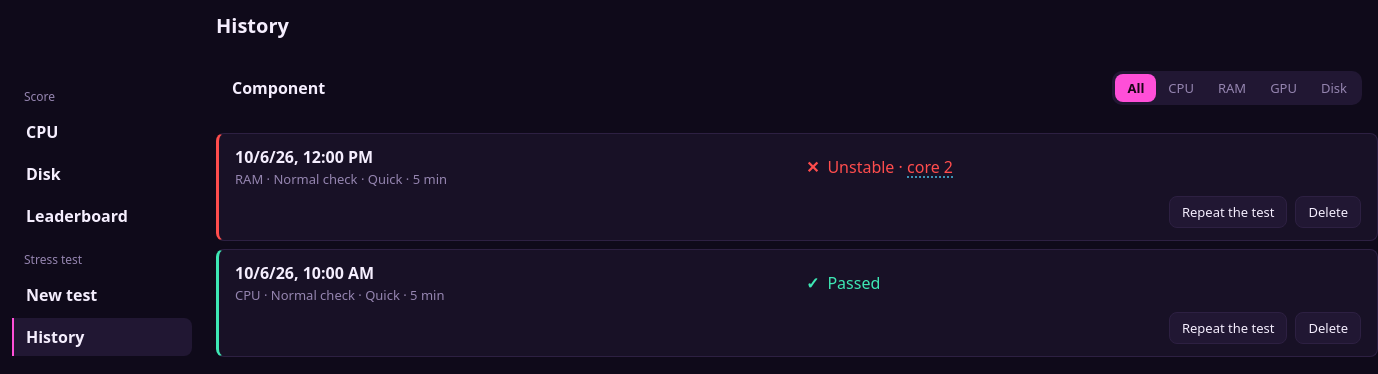
Test: a filter without matches says so, not that nothing is saved
Expected: the number of list items is 2, [216,133,1377,241]; [216,249,1377,357]
Click the radio button labelled "RAM" at (1232, 88), box [1218,79,1246,97]
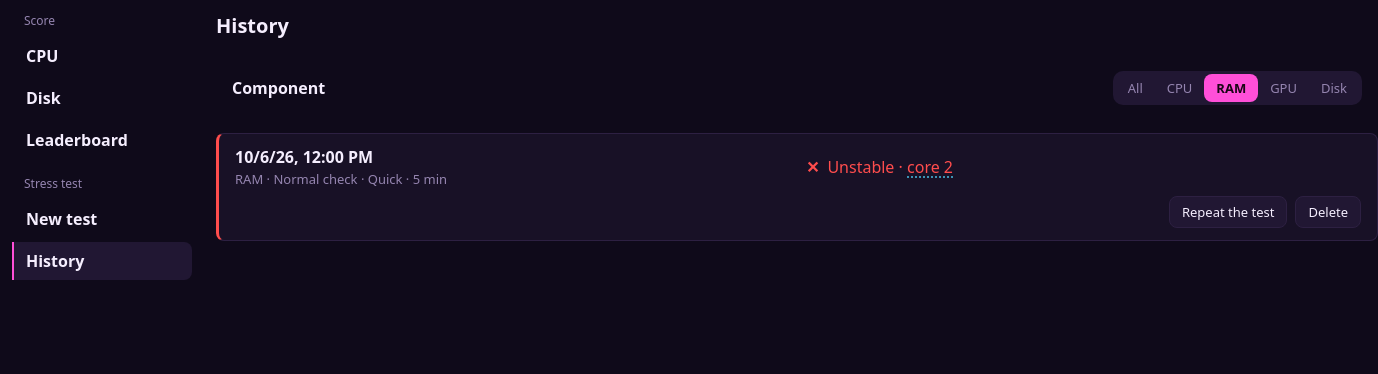
Click the button "Delete" at (1328, 212), box [1296,196,1361,228]
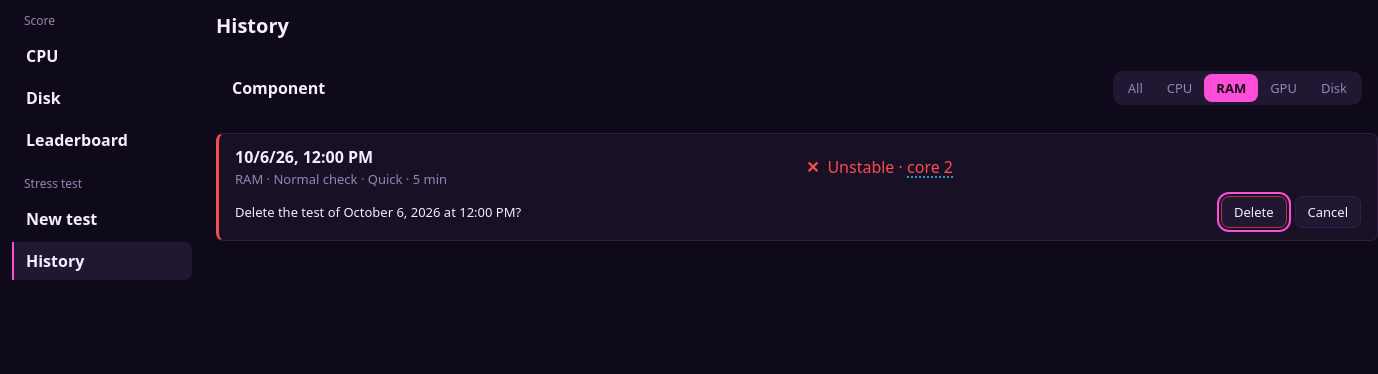
Click the button "Delete" at (1254, 212), box [1221,196,1286,228]
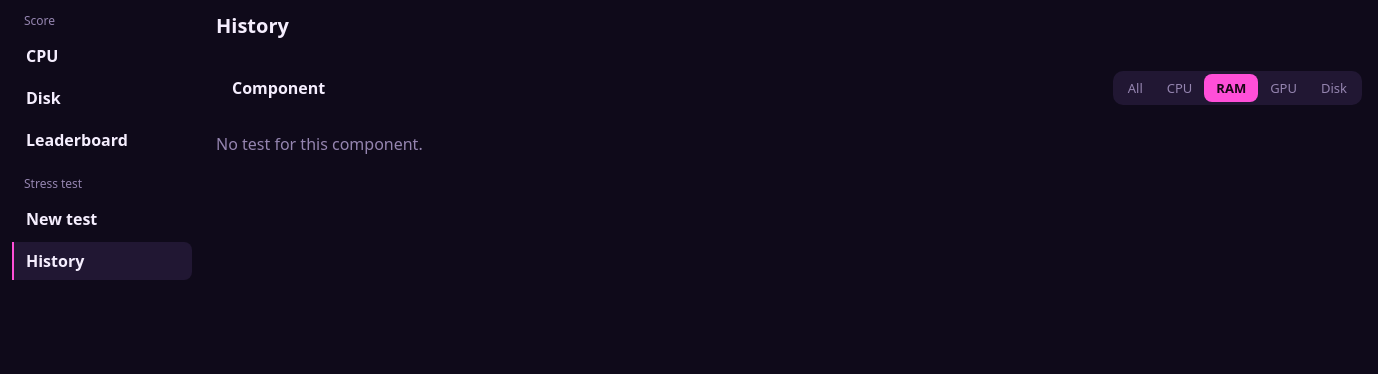
Expected: the text "No test for this component." is shown, [216,133,423,155]
